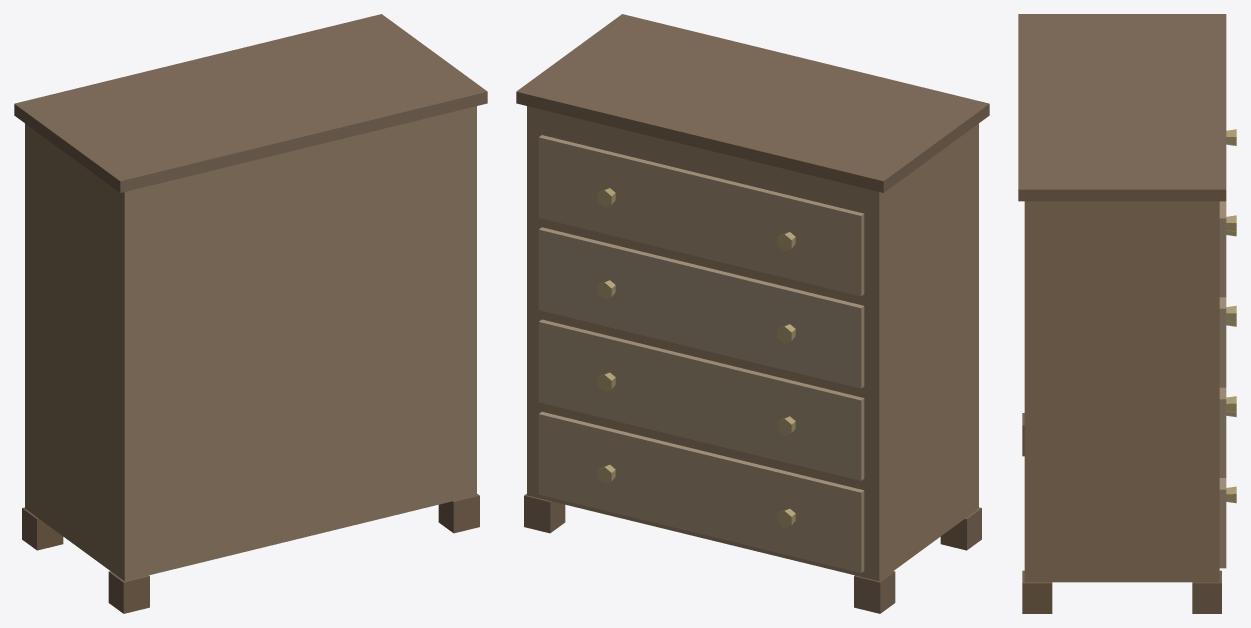
Rendered from schubladenkommode_klein.glb.
3 views of the same model, side by side, from view 1: azimuth 30°, elevation 25°; view 2: azimuth 150°, elevation 25°; view 3: azimuth 270°, elevation 25° (orthographic). The views are drawn at different scales.
Visible parts, largest first — view 1: kommode; view 2: kommode; view 3: kommode.
Boxes of the visible parts, left/top/right/bottom form: kommode: left=14, top=14, right=487, bottom=613; kommode: left=516, top=14, right=989, bottom=613; kommode: left=1018, top=14, right=1236, bottom=613.
Size of the model in its own units: 0.98 by 1.11 by 0.515.
